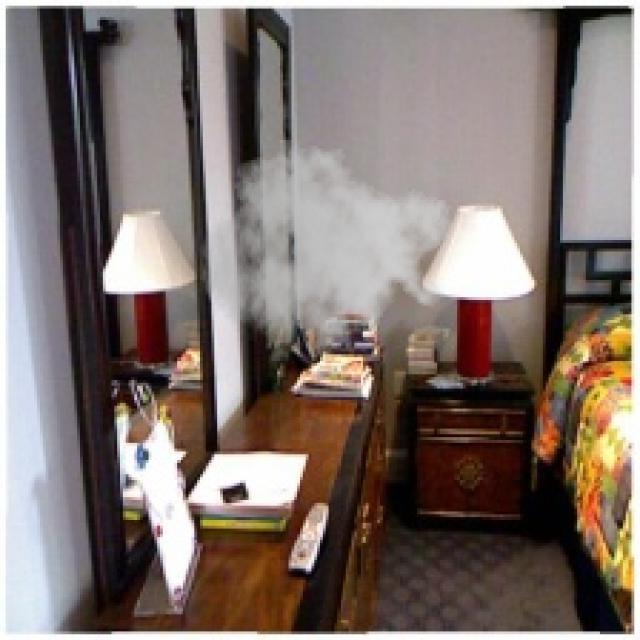Smoke: (200, 132, 454, 372)
